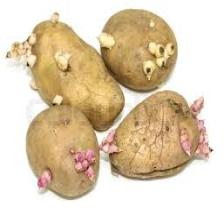Bud: (5, 33, 43, 68), (72, 148, 100, 180), (148, 40, 178, 66), (96, 130, 123, 158), (197, 118, 215, 160), (52, 50, 76, 72), (33, 168, 57, 190), (178, 126, 193, 156), (187, 94, 205, 117), (97, 31, 116, 49), (142, 58, 157, 80), (52, 95, 66, 109), (29, 80, 44, 90), (50, 12, 62, 24), (148, 17, 157, 29)
Sprouted potato: (8, 13, 126, 132), (95, 90, 217, 194), (18, 100, 118, 201), (100, 6, 182, 95)
